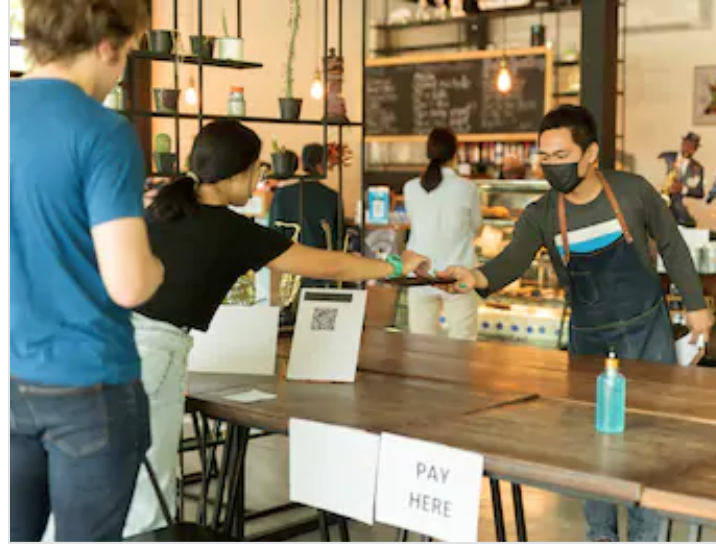Caution: (11, 1, 282, 540), (166, 105, 654, 356)
Good: (404, 96, 713, 361)
